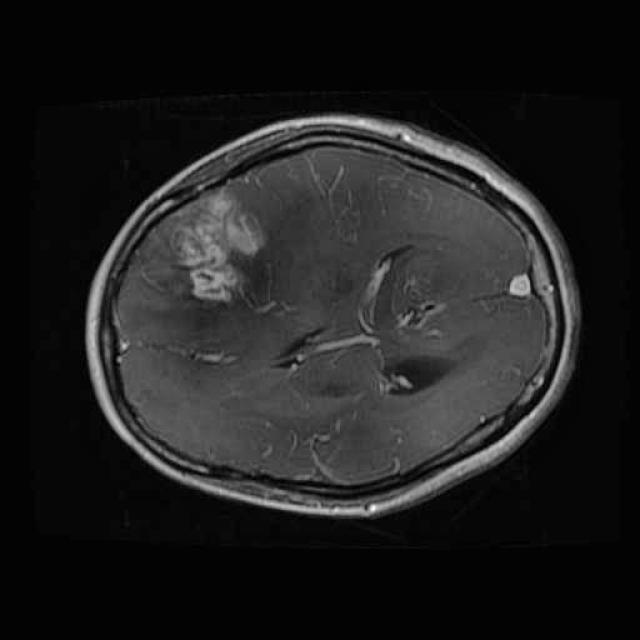Non-Tumor: (124, 179, 270, 321)
